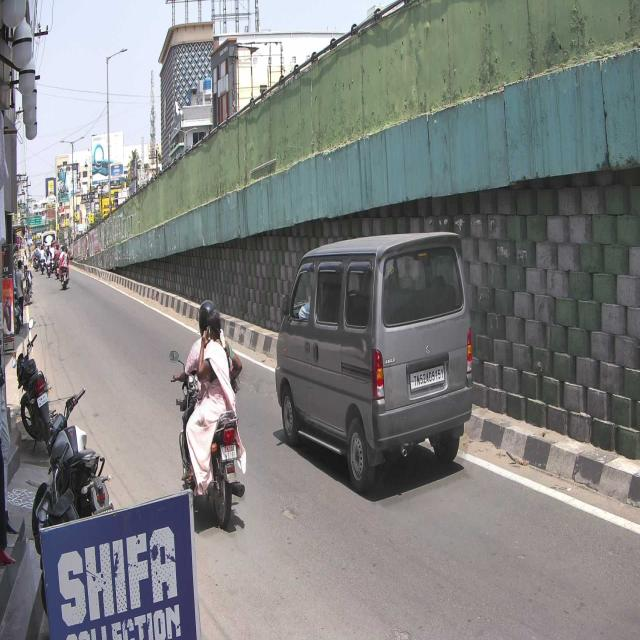double_rider: (168, 298, 245, 525)
